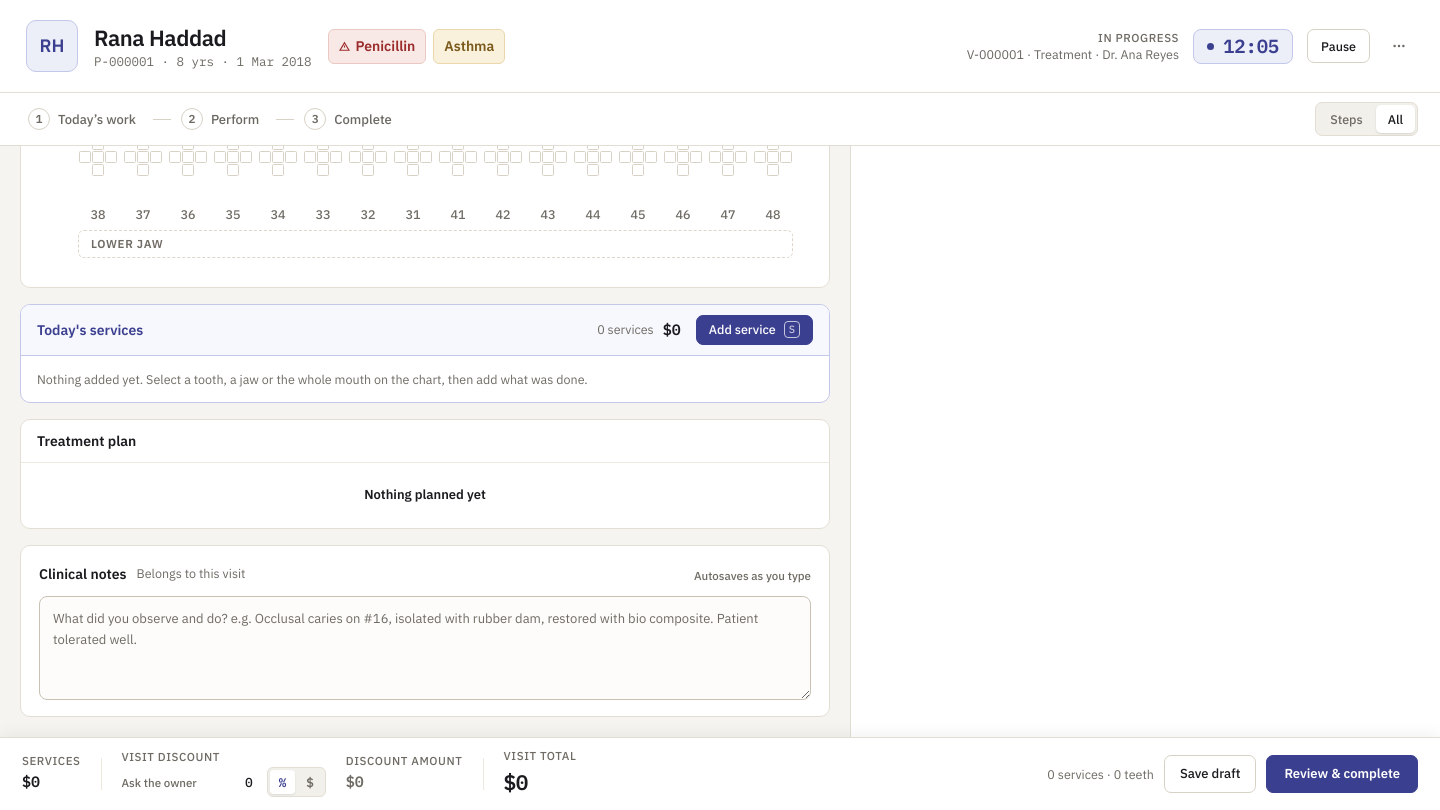
NotesCard › keeps the text when the save fails, and retry re-sends it
(page scrolled)
Step 1. Replace the text in the text box labelled "Clinical notes" with "Rubber dam placed." → (425, 648), box [39,596,811,700]
Wait 700 ms
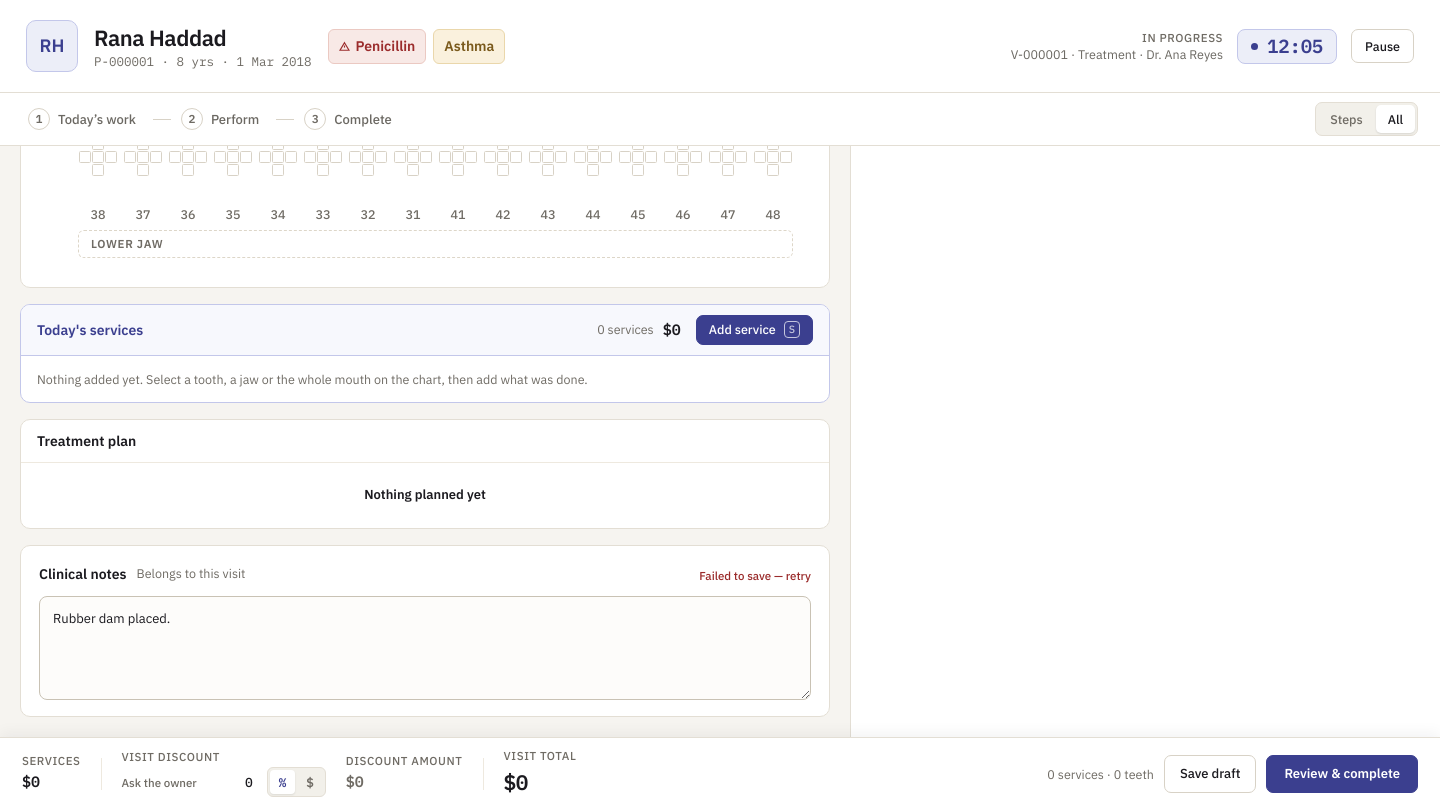
Step 2. Click the button "Failed to save — retry" → (755, 575), box [699,570,811,581]
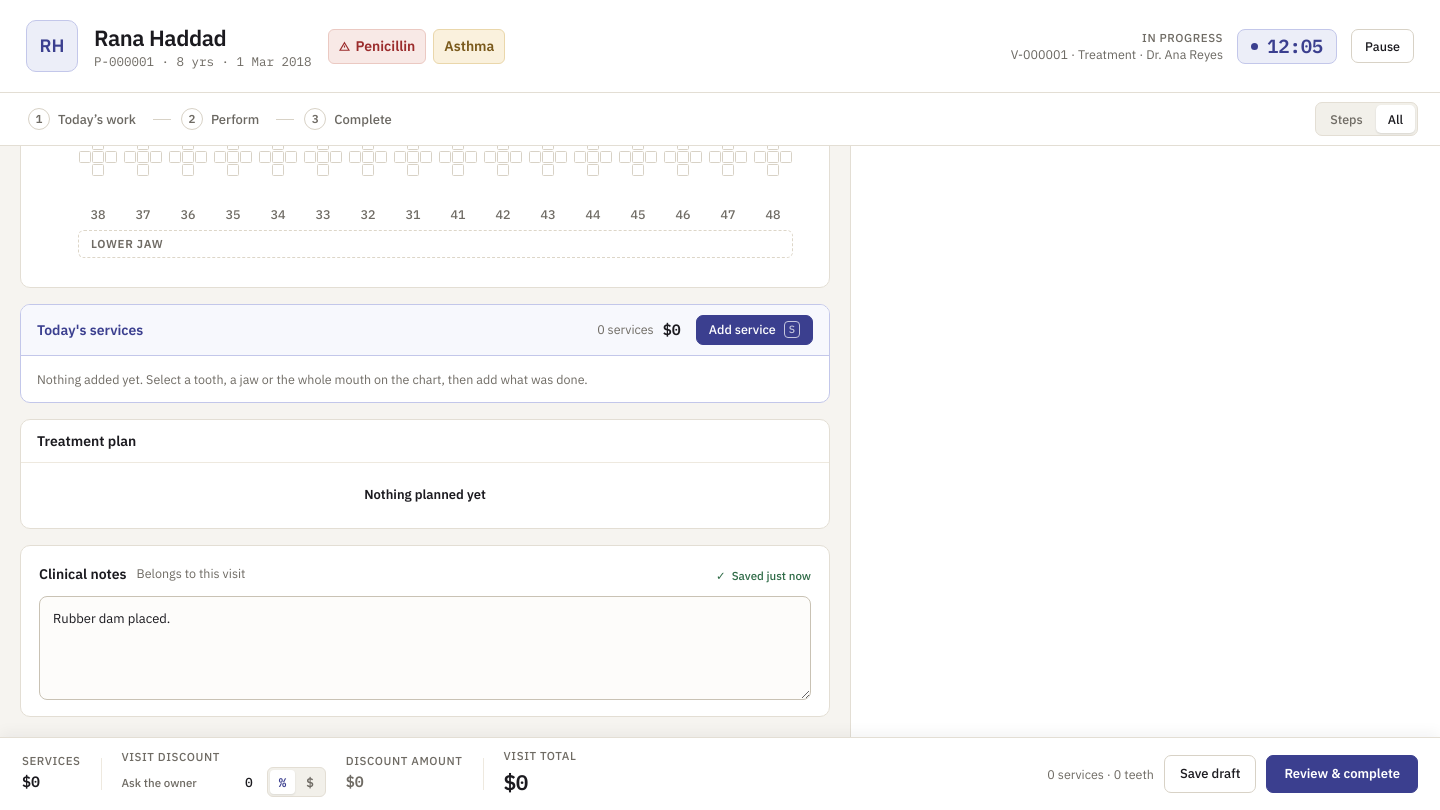
Expected: the text "Saved just now" is shown, [732,568,811,582]
